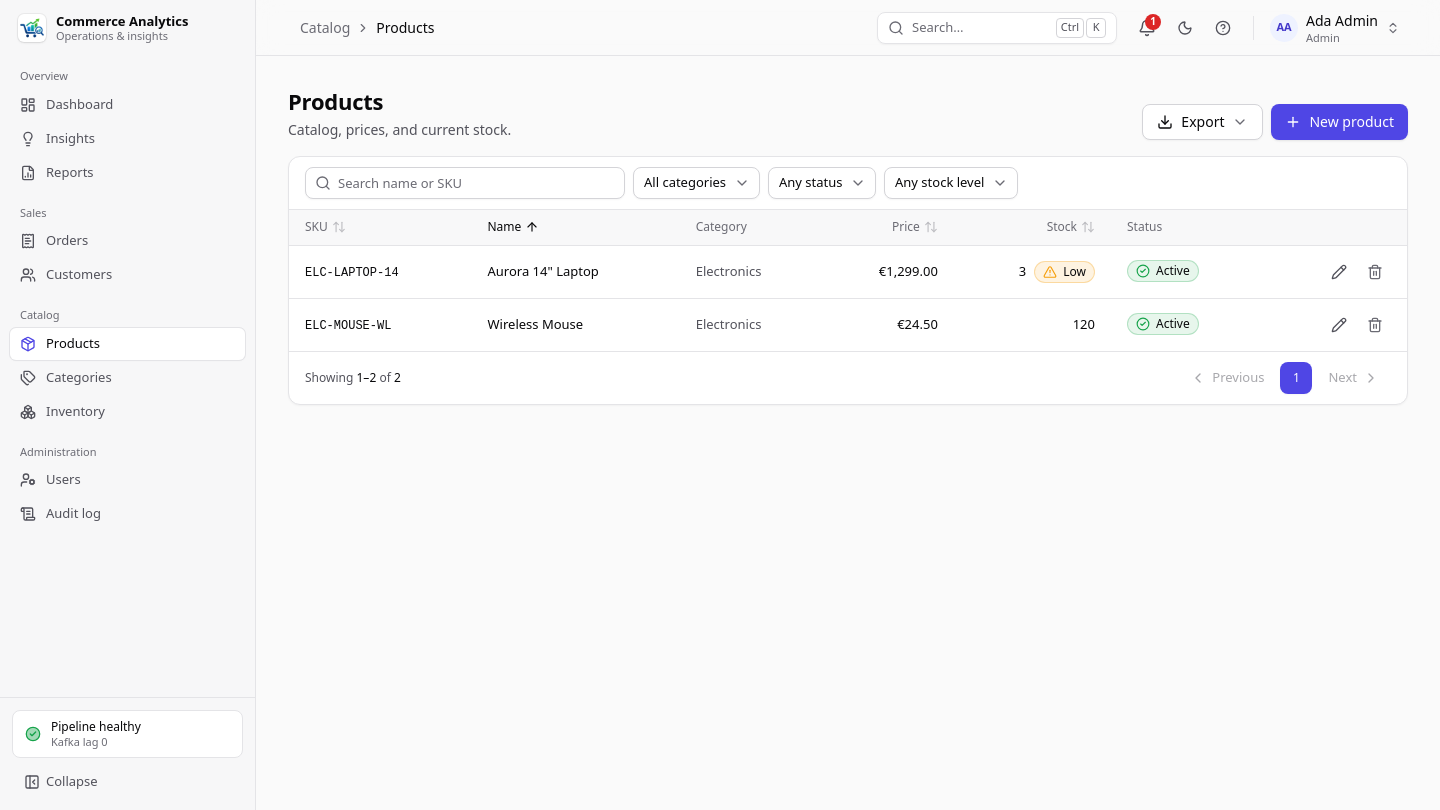
Test: products › edits without offering a stock field
Click the button named "Edit ELC-LAPTOP-14". click: (1339, 272)
box: [1323,256,1355,288]
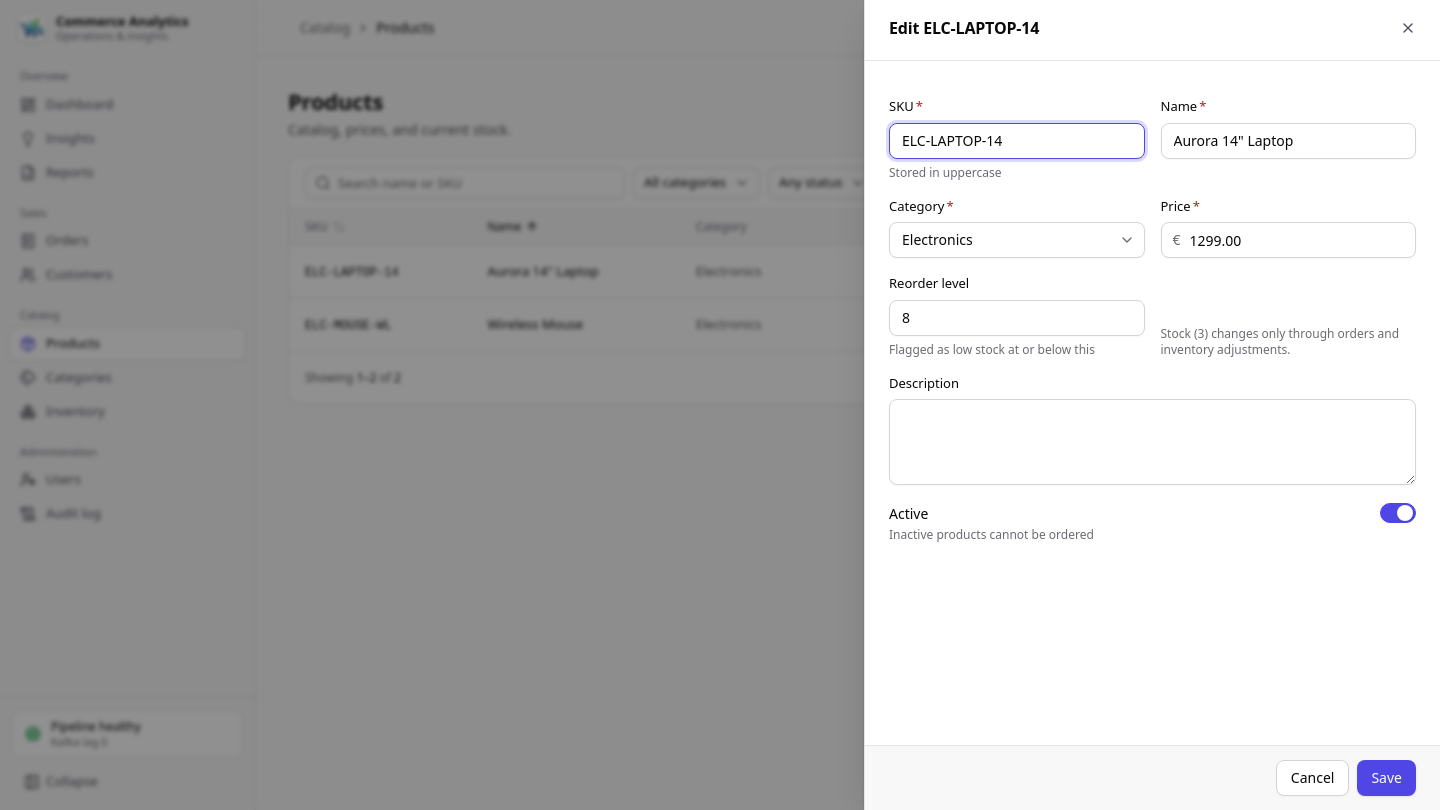
Replace the text in the field labelled "Price*" with "1199.00". click: (1288, 240)
box: [1160,222,1416,258]
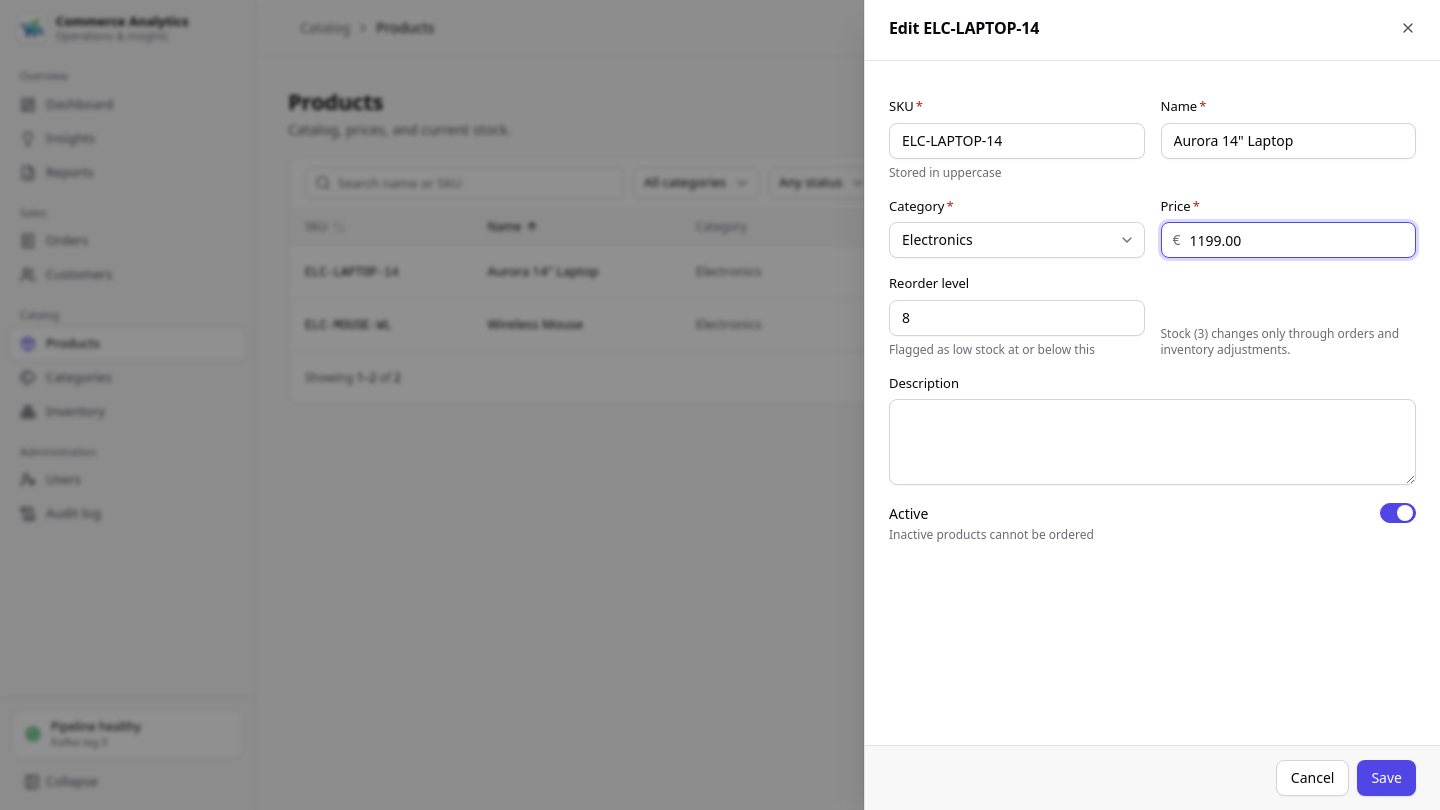
Click the button "Save". click: (1387, 778)
box: [1357,760,1416,796]
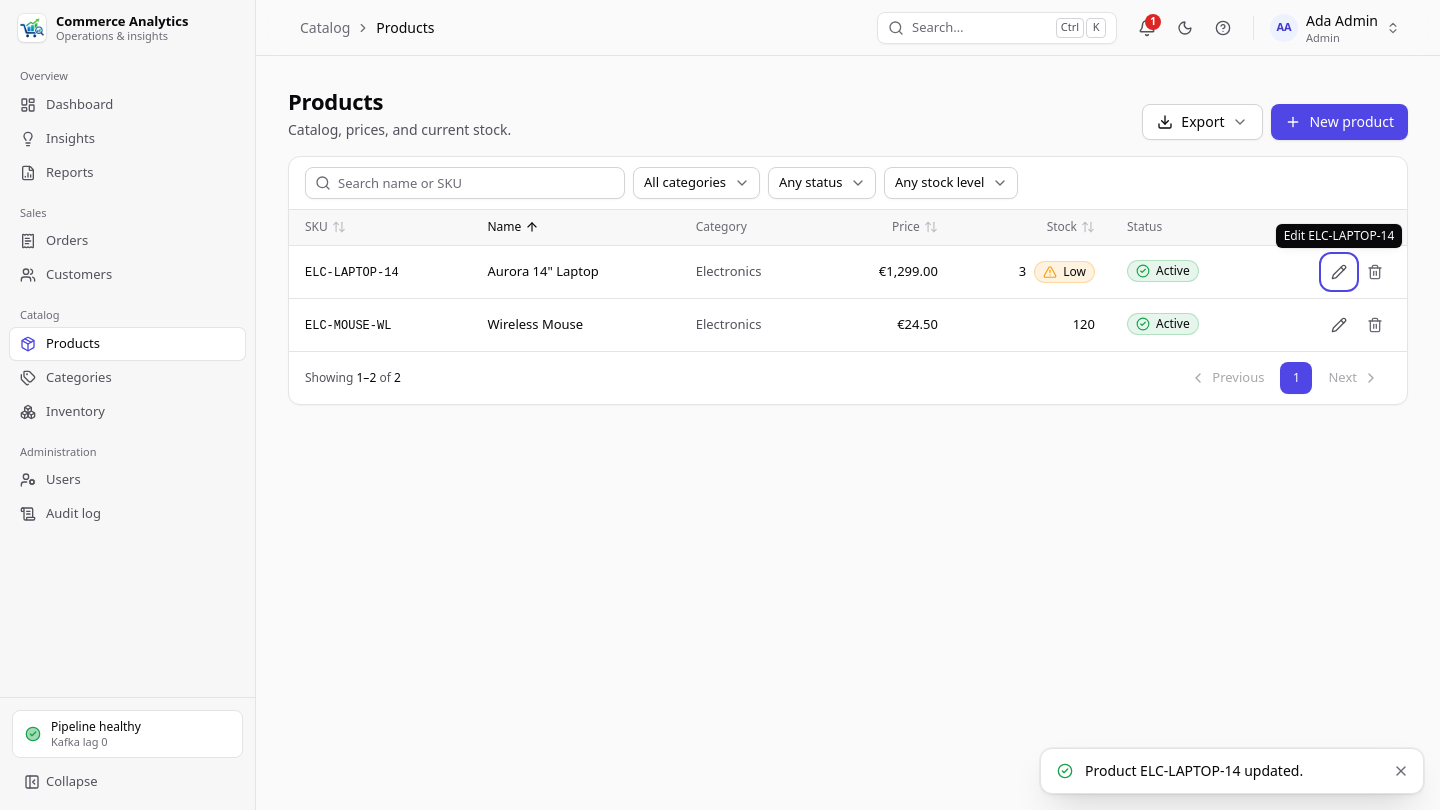
Now the text "Product ELC-LAPTOP-14 updated." is shown, box [1085,761,1303,780]
